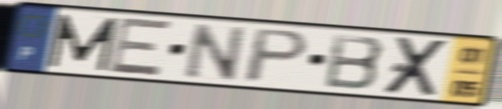B: (322, 32, 388, 92)
E: (105, 16, 175, 79)
M: (46, 12, 121, 73)
N: (183, 21, 248, 82)
P: (240, 26, 313, 85)
X: (380, 36, 454, 99)
